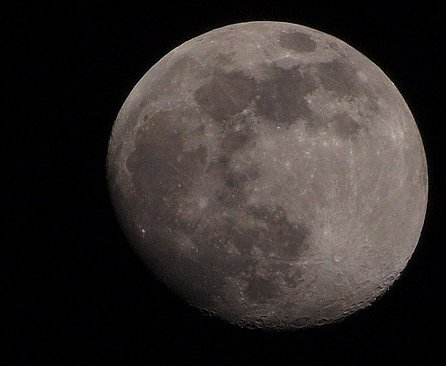crater: (316, 236, 362, 279), (178, 181, 220, 220), (287, 307, 312, 328), (139, 109, 154, 126), (272, 120, 287, 136), (304, 94, 320, 108), (171, 153, 187, 166), (207, 305, 224, 317), (316, 314, 330, 326), (372, 280, 384, 291), (402, 117, 411, 129)
